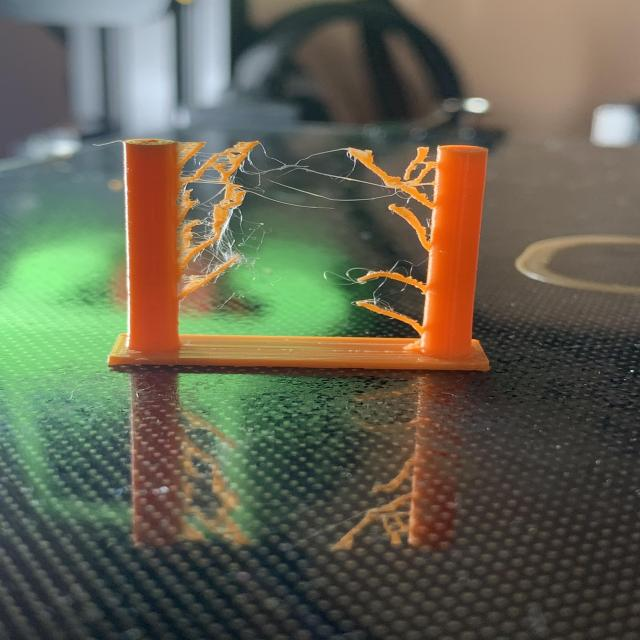Stringing: (262, 155, 320, 177), (213, 237, 246, 265)
